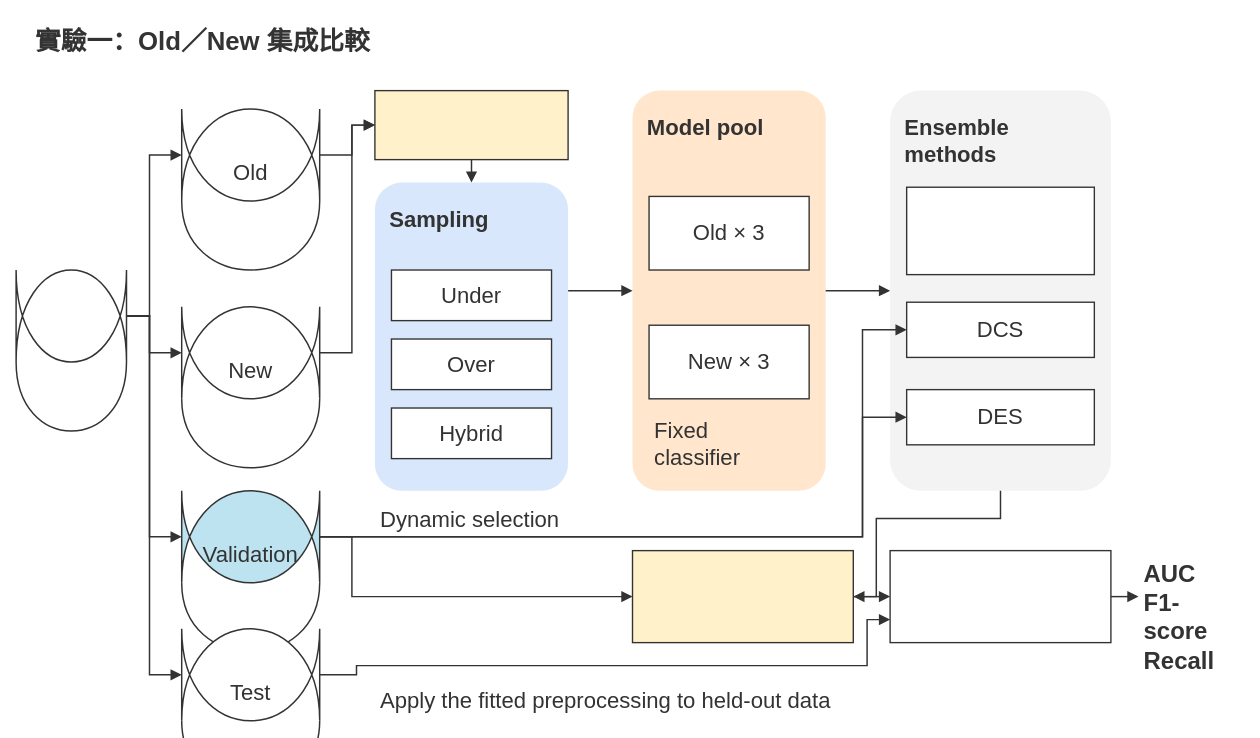
The diagram is 1260 pixels wide and 738 high, and some of its shapes have lost their labels. Each missing label, with the box of its shape:
Original Dataset: (15, 269, 127, 362)
Preprocess: (374, 90, 568, 160)
Static 49 mixed subsets: (906, 186, 1095, 275)
Test inference: (889, 550, 1111, 643)
Validation choices fixed: (631, 550, 854, 643)
